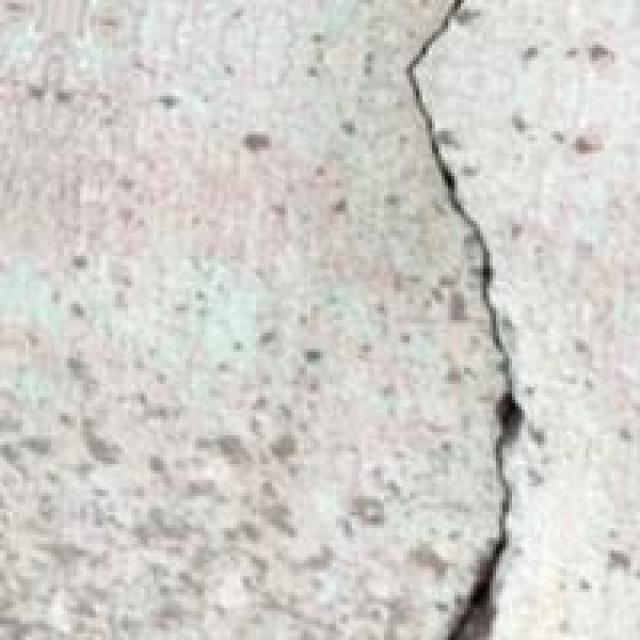Crack: (358, 0, 532, 637)
